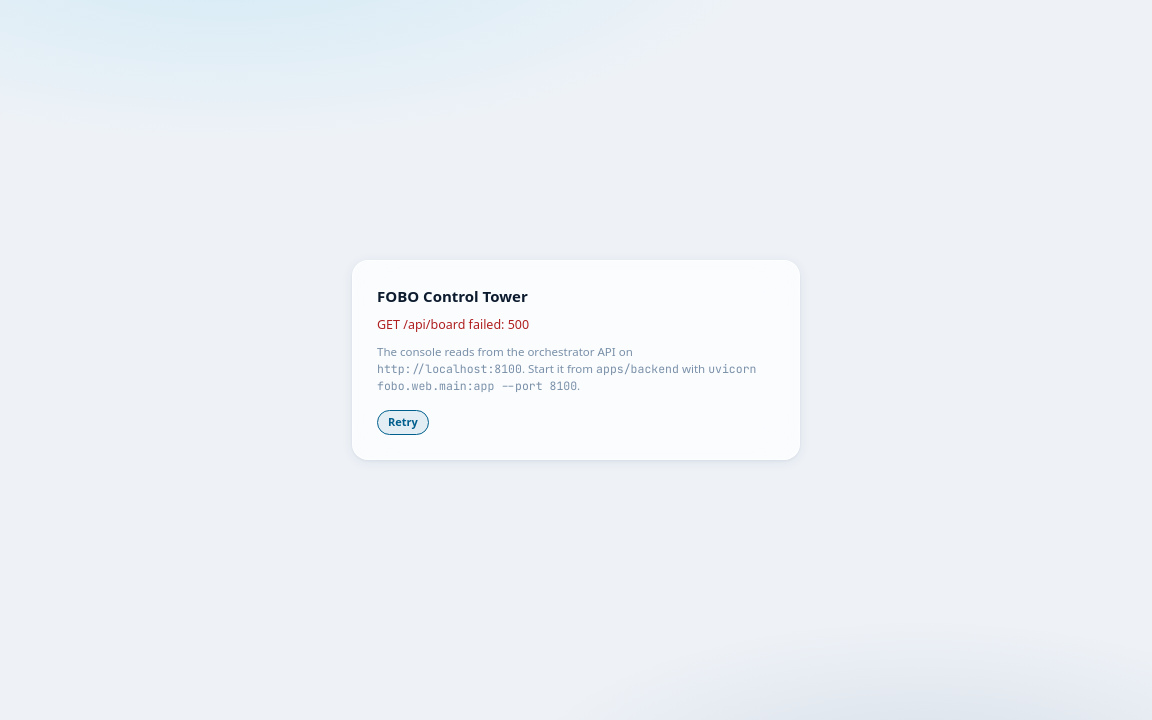
ConsoleApp › offers a retry when the API cannot be reached
The image size is (1152, 720).
Expected: the text "GET /api/board failed: 500" is shown, [377, 316, 529, 333]
What coordinates should you click on to do the following:
click the button "Retry"
I would click on:
 (403, 423)
Its box is [377, 410, 429, 435].
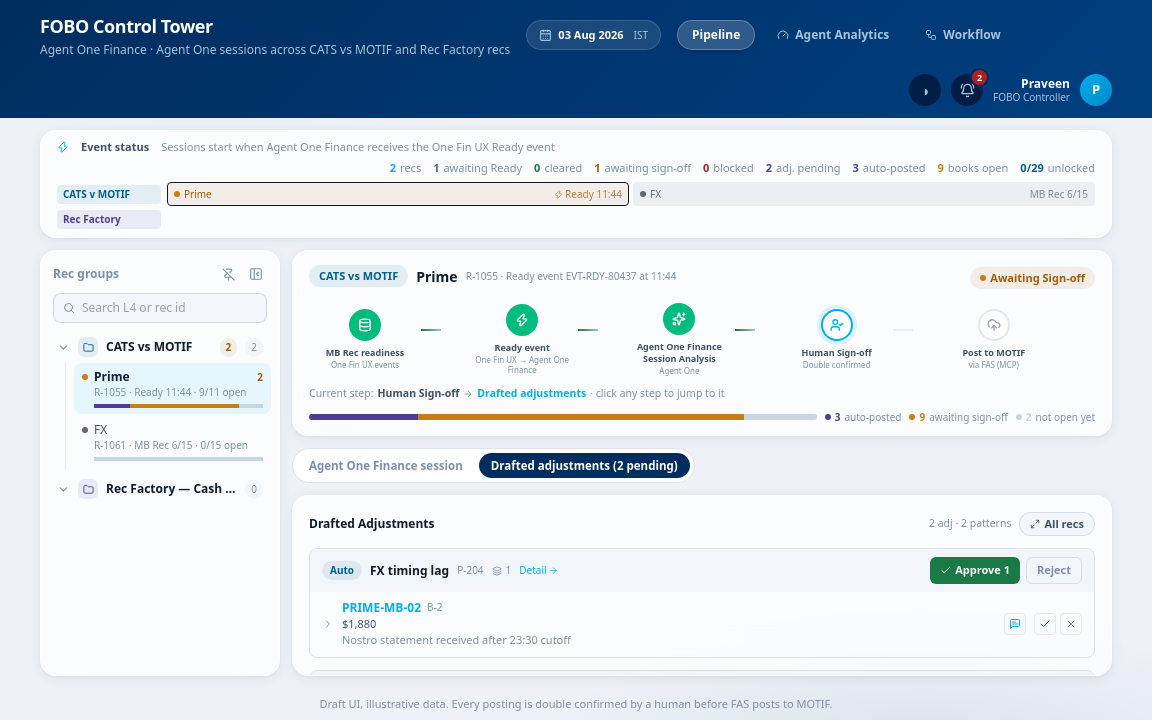
Now the text "FOBO Controller" is shown, box [993, 91, 1070, 104]
